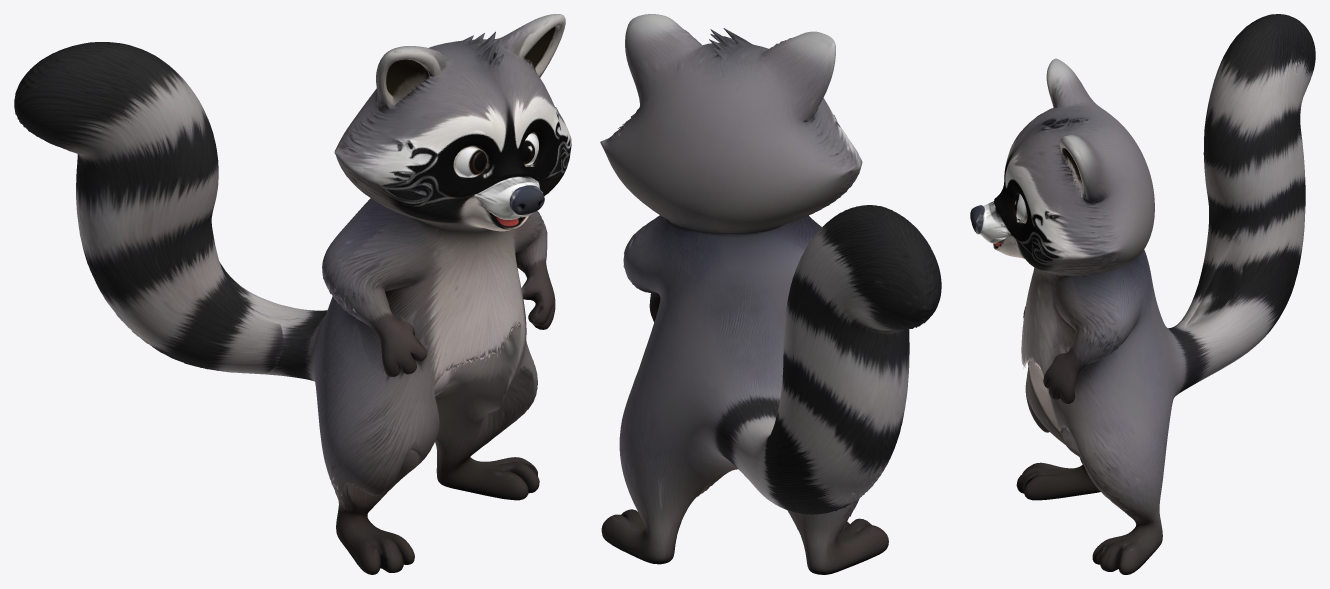
Rendered from C01_raccoon_hy.glb.
The picture shows the model from 3 angles, left to right: view 1: azimuth 30°, elevation 25°; view 2: azimuth 150°, elevation 25°; view 3: azimuth 270°, elevation 25°; orthographic projection. The views are drawn at different scales.
Parts seen in each view (by area): view 1: C01_raccoon_hy; view 2: C01_raccoon_hy; view 3: C01_raccoon_hy.
Part boxes in pixels (x1,y1,x2,y2): C01_raccoon_hy: [14, 14, 571, 574]; C01_raccoon_hy: [600, 14, 941, 574]; C01_raccoon_hy: [970, 14, 1315, 574].
Bounding box in the file's own units: 0.8248 × 0.9167 × 0.6506.
Materials: 1 (1 with a texture image).
